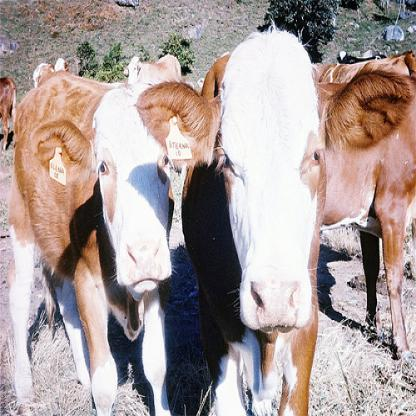cow: (135, 18, 415, 415), (5, 70, 173, 414), (314, 74, 415, 361), (320, 54, 415, 86), (123, 55, 179, 84), (0, 77, 16, 152), (32, 57, 68, 86), (334, 45, 382, 65)
